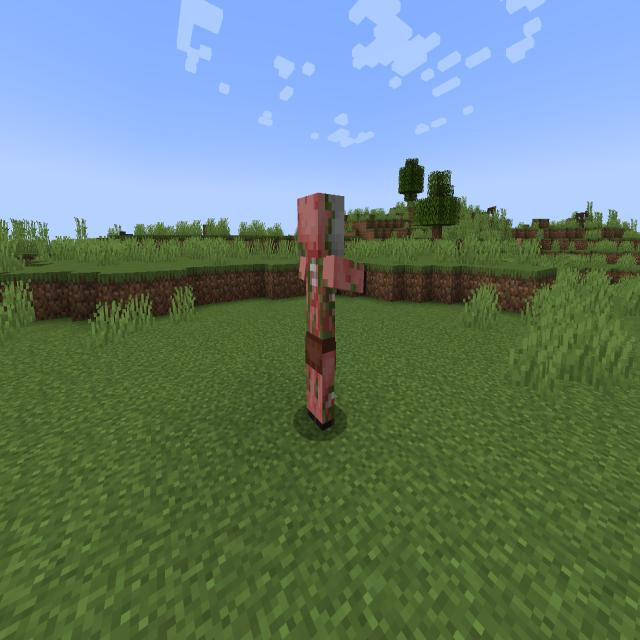Zombified Piglin: (284, 178, 374, 444)
